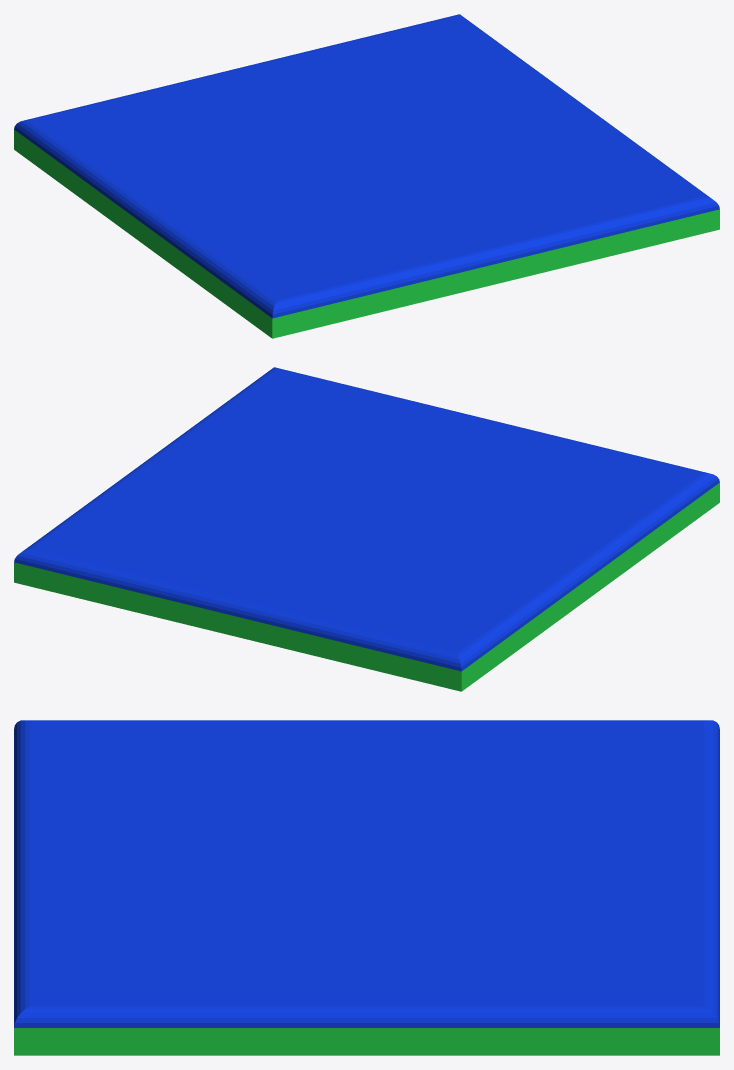
3 renders of one model, top to bottom at view 1: azimuth 30°, elevation 25°; view 2: azimuth 150°, elevation 25°; view 3: azimuth 270°, elevation 25°, orthographic. The views are drawn at different scales.
Visible parts, largest first — view 1: plank14; view 2: plank14; view 3: plank14.
Boxes of the visible parts, x1,y1,x2,y2 form: plank14: (14,14,719,338); plank14: (14,367,719,691); plank14: (14,720,719,1055).
Bounding box in the file's own units: 1500 × 100 × 1500.
